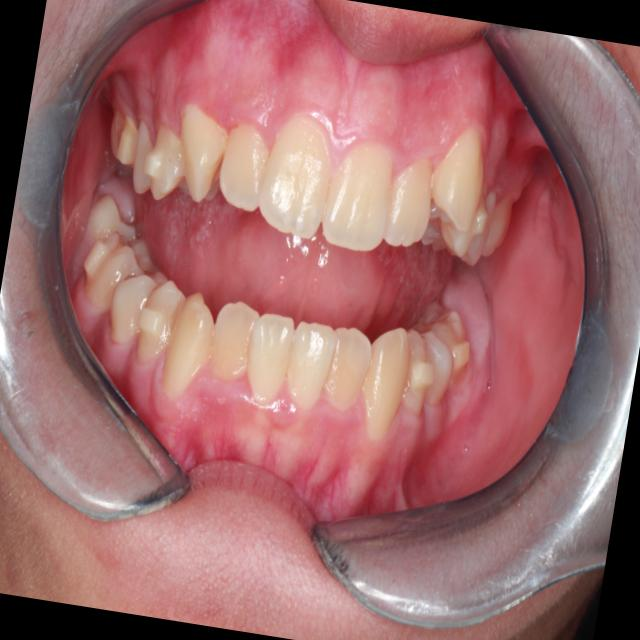tooth: (236, 92, 356, 257), (312, 129, 409, 275), (268, 296, 351, 439), (159, 90, 245, 224), (347, 305, 423, 455), (70, 220, 162, 335), (200, 101, 281, 228), (149, 281, 225, 413), (422, 117, 495, 243), (376, 137, 447, 265), (124, 268, 203, 383), (231, 301, 307, 420), (66, 189, 147, 296), (196, 294, 273, 401), (314, 317, 387, 429), (408, 289, 486, 390), (132, 115, 208, 218), (385, 321, 444, 426), (405, 322, 466, 421), (115, 107, 172, 211), (95, 264, 158, 352), (84, 162, 149, 236), (453, 170, 498, 267), (481, 176, 525, 268), (467, 179, 500, 273), (106, 103, 146, 172), (103, 108, 126, 162)
